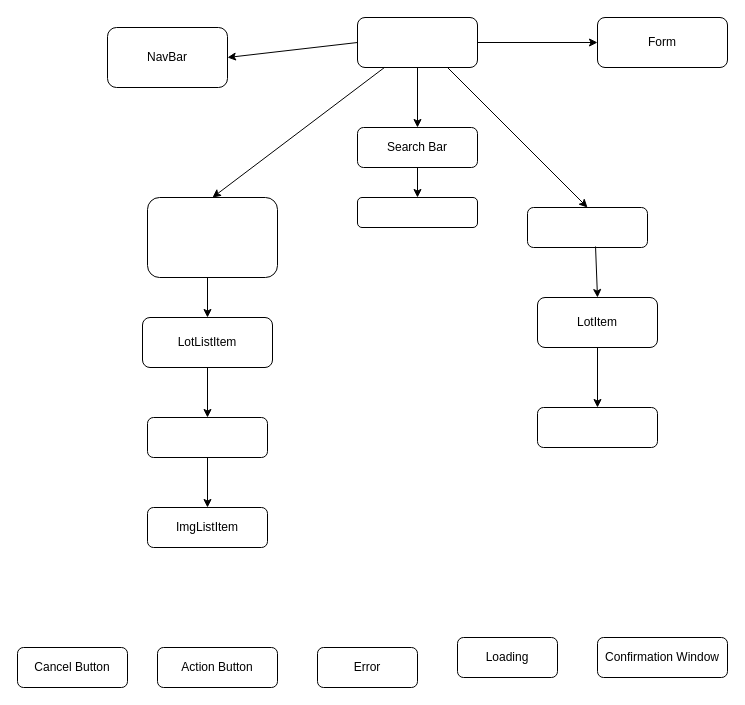
Some shapes in this 745 by 705 pixel diagram are drawn without their labels. The centre of each missing label's shape, as x and y in pixels:
App "root": pixel 417 42
ImgList: pixel 207 437
LotInfoItem: pixel 597 427
LotList: pixel 212 237
Map: pixel 587 227
SearchBarItem: pixel 417 212
